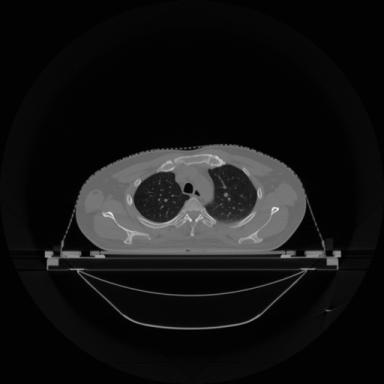body: (76, 145, 306, 252)
cord: (186, 195, 206, 231)
paru kanan: (134, 172, 189, 222)
paru kiri: (206, 164, 257, 222)
